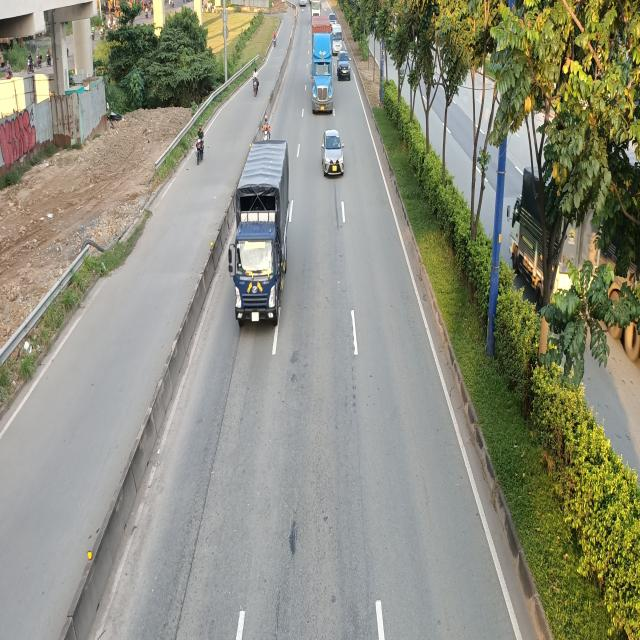car: (324, 128, 346, 177), (338, 52, 352, 82)
container: (308, 13, 334, 113)
truck: (229, 139, 292, 328)
